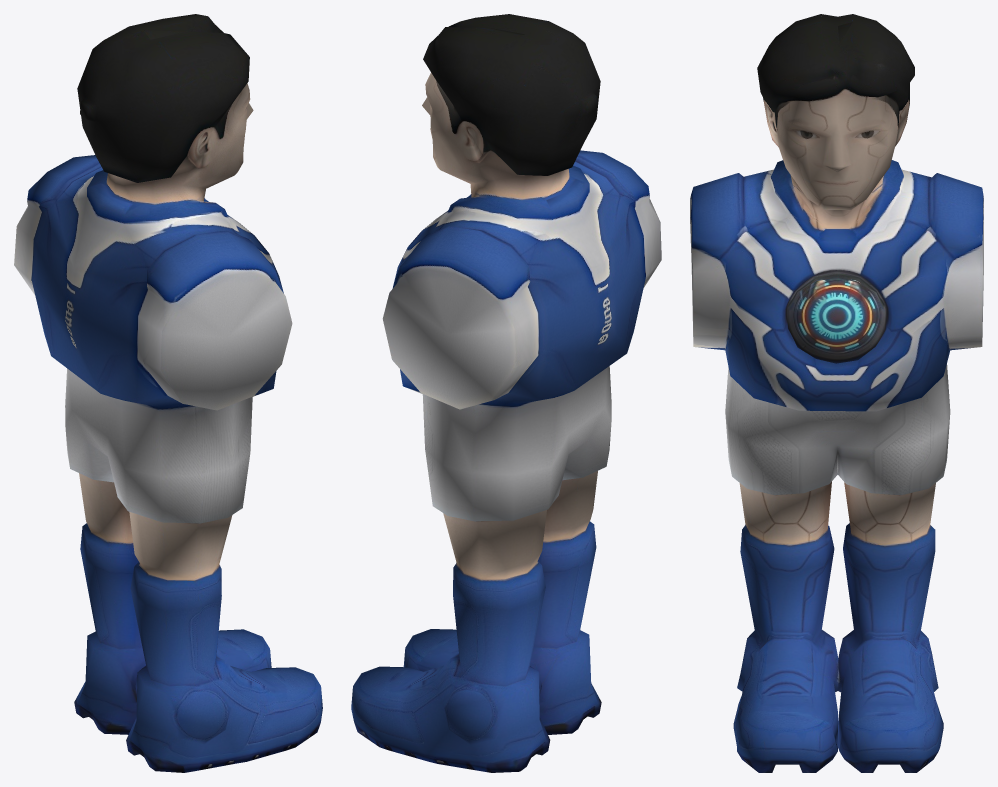
The model's file is fuzeball_manStumpy.glb.
The picture shows the model from 3 angles, left to right: view 1: azimuth 30°, elevation 25°; view 2: azimuth 150°, elevation 25°; view 3: azimuth 270°, elevation 25°; orthographic projection.
Parts seen in each view (by area): view 1: tripo_node_25f6240d-cf34-42a6-b246-d62926f4da5b; view 2: tripo_node_25f6240d-cf34-42a6-b246-d62926f4da5b; view 3: tripo_node_25f6240d-cf34-42a6-b246-d62926f4da5b.
Boxes of the visible parts, x1,y1,x2,y2 form: tripo_node_25f6240d-cf34-42a6-b246-d62926f4da5b: (14, 14, 322, 772); tripo_node_25f6240d-cf34-42a6-b246-d62926f4da5b: (351, 14, 661, 772); tripo_node_25f6240d-cf34-42a6-b246-d62926f4da5b: (690, 14, 983, 772).
Bounding box in the file's own units: 4.24 × 12.86 × 4.95.
3 materials, 3 textured.
